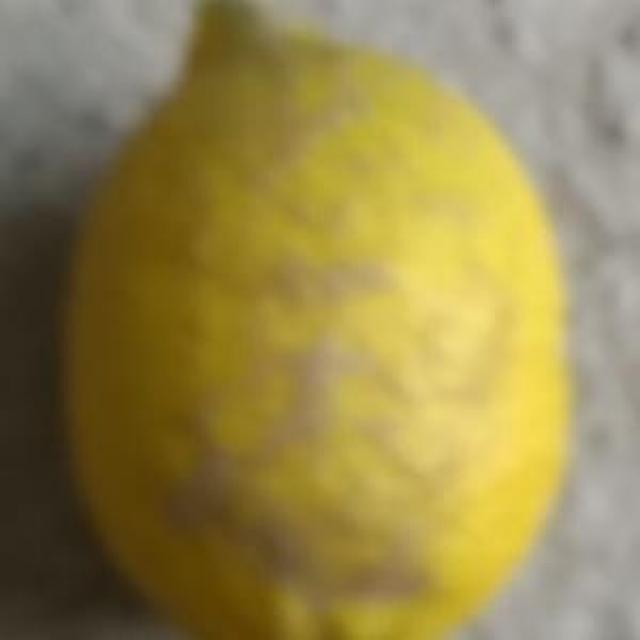lemon: (62, 3, 578, 640)
